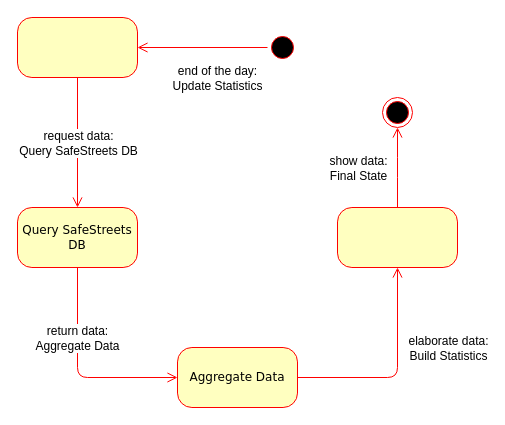
This 505x425 diagram has some shape labels left out. Each missing label, with the centre of its shape:
Build Statistics: the point at 397,237
Update Statistics: the point at 77,47
